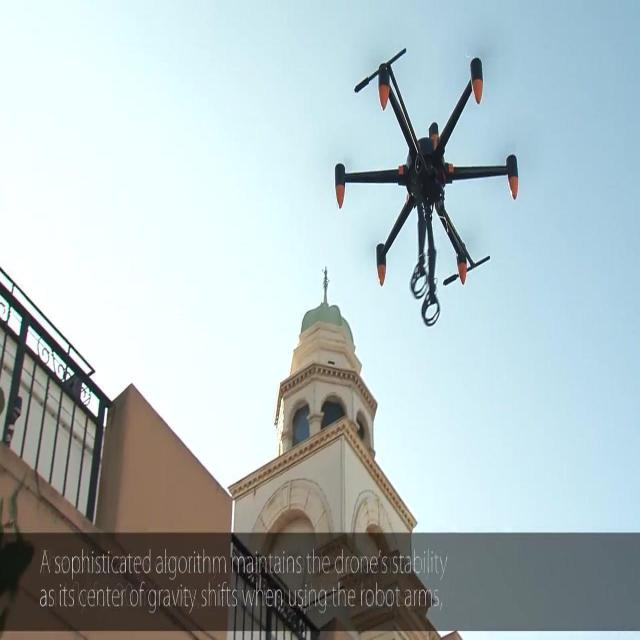drone: (333, 48, 521, 328)
